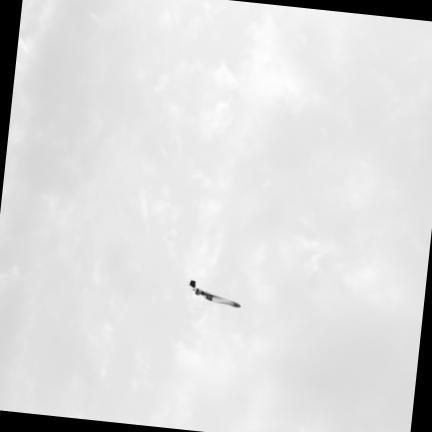Shahed: (189, 282, 239, 306)
